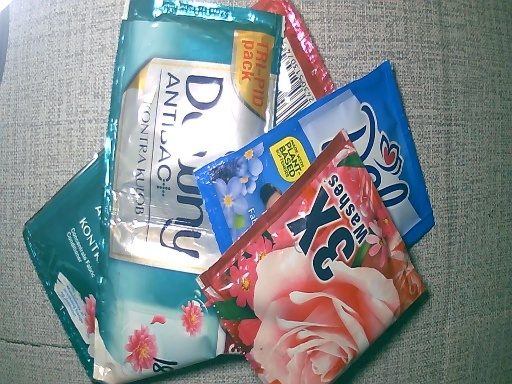plastic: (23, 1, 290, 383), (201, 136, 426, 384), (199, 62, 430, 274)
